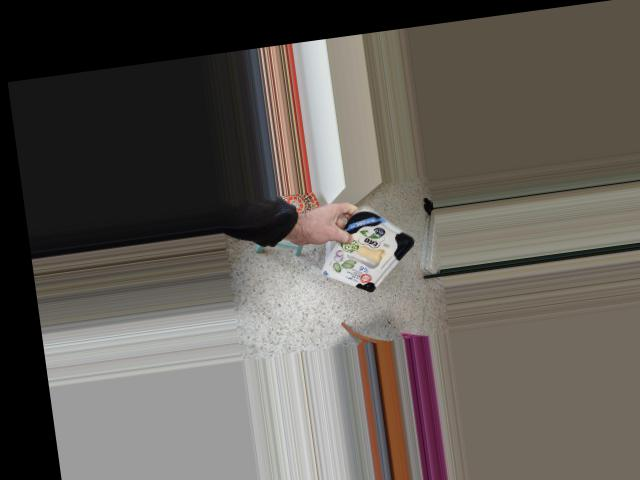cheese: (325, 183, 408, 301)
